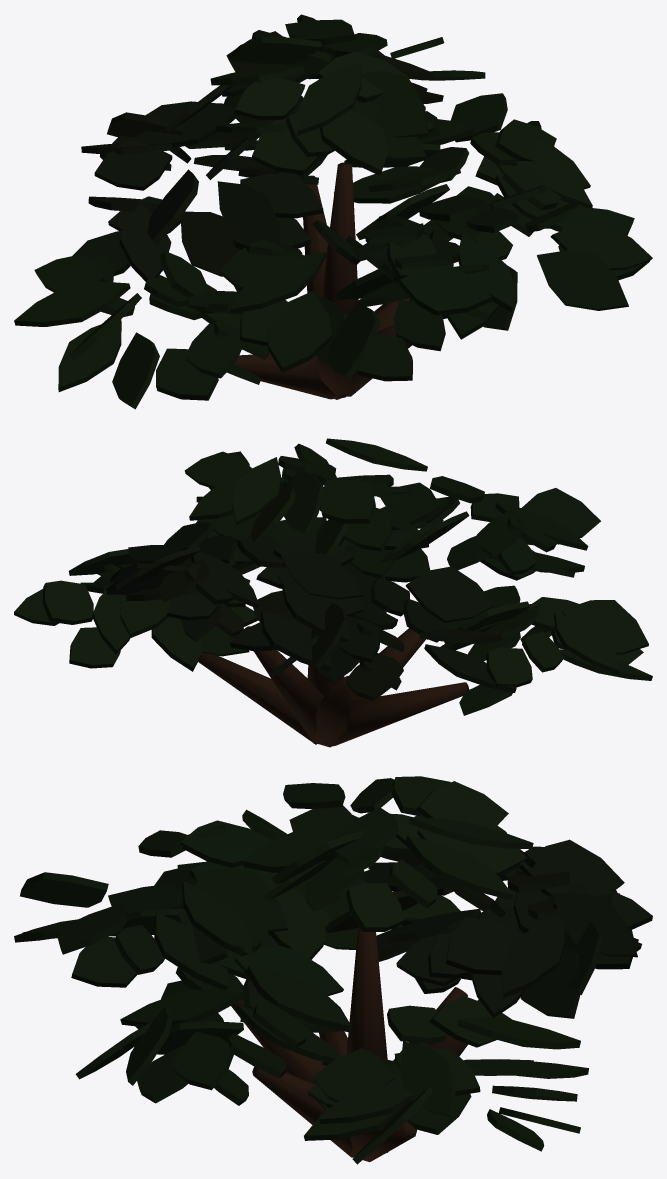
File: NatureBush.obj
3 renders of one model, top to bottom at view 1: azimuth 30°, elevation 25°; view 2: azimuth 150°, elevation 25°; view 3: azimuth 270°, elevation 25°, orthographic. The views are drawn at different scales.
Parts seen in each view (by area): view 1: bush_leaf.047, bush_leaf.111, bush_leaf.117, bush_leaf.007, bush_stem.006, bush_leaf.132, bush_leaf.121, bush_leaf.028, bush_leaf.129, bush_leaf.055, bush_leaf.103, bush_leaf.036 (+71 smaller); view 2: bush_stem, bush_leaf.020, bush_leaf.084, bush_stem.003, bush_leaf.002, bush_stem.004, bush_leaf.123, bush_leaf.133, bush_leaf.007, bush_leaf.114, bush_leaf.065, bush_leaf.089 (+69 smaller); view 3: bush_stem.006, bush_leaf.048, bush_leaf.093, bush_leaf.096, bush_leaf.098, bush_leaf.032, bush_leaf.110, bush_leaf.075, bush_leaf.125, bush_leaf.115, bush_leaf.052, bush_leaf.077 (+70 smaller).
Boxes of the visible parts, x1,y1,x2,y2 form: bush_leaf.047: [537, 250, 628, 310]; bush_leaf.111: [266, 291, 331, 372]; bush_leaf.117: [399, 264, 491, 315]; bush_leaf.007: [14, 281, 130, 326]; bush_stem.006: [321, 162, 358, 315]; bush_leaf.132: [355, 71, 428, 137]; bush_leaf.121: [297, 61, 361, 135]; bush_leaf.028: [180, 211, 242, 276]; bush_leaf.129: [320, 110, 387, 175]; bush_leaf.055: [550, 222, 652, 270]; bush_leaf.103: [230, 251, 326, 313]; bush_leaf.036: [217, 181, 280, 244]; bush_stem: [328, 682, 469, 746]; bush_leaf.020: [405, 566, 494, 622]; bush_leaf.084: [280, 551, 363, 599]; bush_stem.003: [198, 653, 316, 744]; bush_leaf.002: [562, 600, 648, 654]; bush_stem.004: [242, 626, 328, 743]; bush_leaf.123: [320, 479, 375, 523]; bush_leaf.133: [232, 457, 280, 525]; bush_leaf.007: [554, 612, 619, 674]; bush_leaf.114: [522, 488, 600, 544]; bush_leaf.065: [42, 580, 93, 624]; bush_leaf.089: [260, 610, 331, 671]; bush_stem.006: [346, 925, 387, 1059]; bush_leaf.048: [246, 965, 351, 1032]; bush_leaf.093: [501, 917, 564, 998]; bush_leaf.096: [553, 892, 637, 957]; bush_leaf.098: [446, 917, 517, 974]; bush_leaf.032: [519, 839, 624, 896]; bush_leaf.110: [194, 868, 288, 932]; bush_leaf.075: [400, 1041, 455, 1117]; bush_leaf.125: [405, 835, 512, 899]; bush_leaf.115: [181, 881, 252, 956]; bush_leaf.052: [120, 988, 245, 1026]; bush_leaf.077: [313, 1048, 395, 1102].
Bounding box in the file's own units: 1.14 × 0.6096 × 0.9708.
